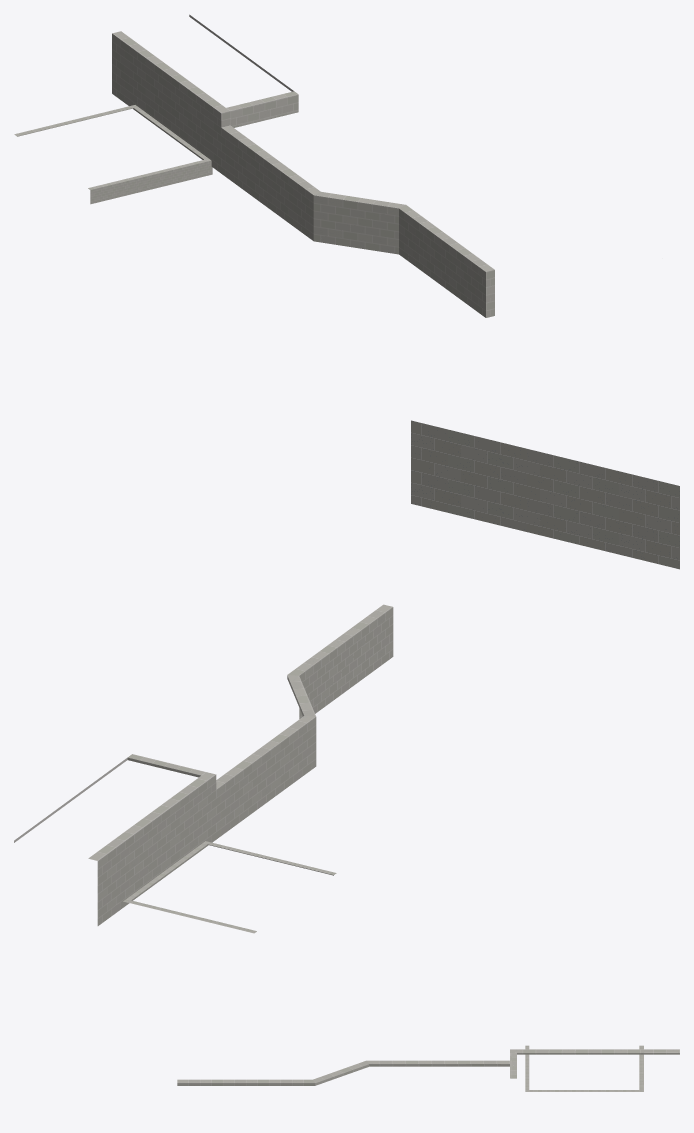
File: kd_stage_135ded_3_0_bounded.glb
3 renders of one model, top to bottom at view 1: azimuth 30°, elevation 25°; view 2: azimuth 150°, elevation 25°; view 3: azimuth 270°, elevation 25°, orthographic. The views are drawn at different scales.
Parts seen in each view (by area): view 1: kd_stage_135ded_3_0_bounded; view 2: kd_stage_135ded_3_0_bounded; view 3: kd_stage_135ded_3_0_bounded.
Part boxes in pixels (x1,y1,x2,y2): kd_stage_135ded_3_0_bounded: (14, 14, 494, 317); kd_stage_135ded_3_0_bounded: (14, 420, 679, 933); kd_stage_135ded_3_0_bounded: (177, 1045, 679, 1091).
Size of the model in its own units: 5.72 by 2.68 by 16.3.
Materials: 1 (1 with a texture image).
